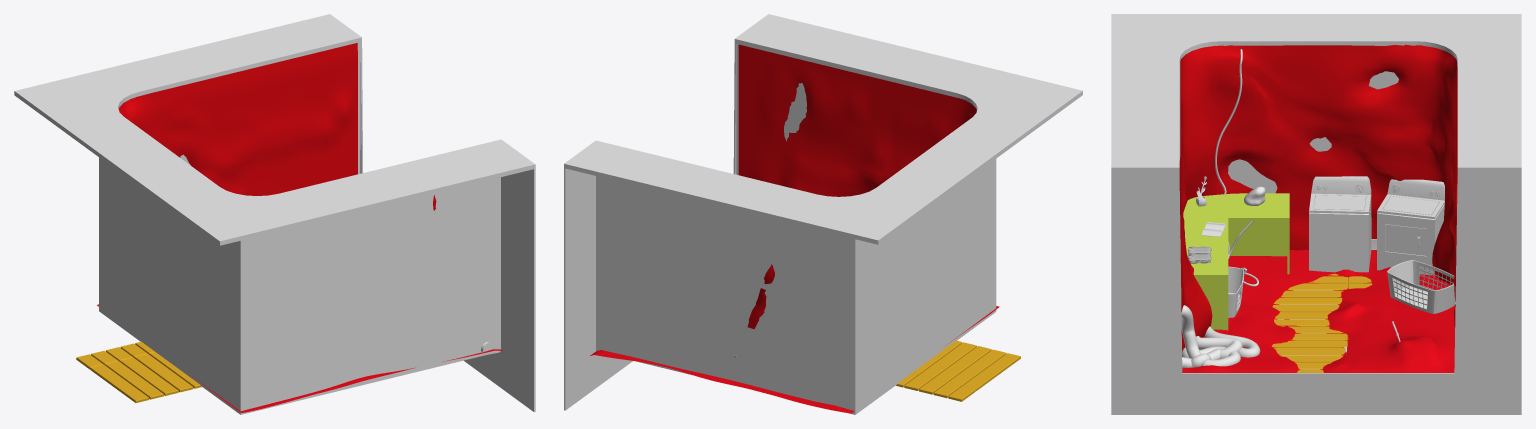
Rendered from TheWashRoom.fbx.
3 renders of one model, left to right at view 1: azimuth 30°, elevation 25°; view 2: azimuth 150°, elevation 25°; view 3: azimuth 270°, elevation 25°, orthographic.
Visible parts, largest first — view 1: Room, Blocker, WallFlesh, FloorBoards, FleshGround; view 2: Room, Blocker, WallFlesh, FloorBoards, FleshGround; view 3: Blocker, WallFlesh, FleshGround, Cupboards, WashingMachine, FloorBoards, Dryer, BezierCurve.001, clothebasket, Room, clothesbasket, BezierCurve.
Part boxes in pixels (left/top/right/bottom): Room: left=99, top=42, right=500, bottom=414; Blocker: left=14, top=14, right=535, bottom=412; WallFlesh: left=118, top=43, right=436, bottom=210; FloorBoards: left=76, top=341, right=201, bottom=402; FleshGround: left=97, top=304, right=502, bottom=412; Room: left=596, top=43, right=996, bottom=414; Blocker: left=564, top=14, right=1082, bottom=410; WallFlesh: left=738, top=44, right=976, bottom=329; FloorBoards: left=896, top=340, right=1020, bottom=401; FleshGround: left=590, top=306, right=999, bottom=413; Blocker: left=1111, top=14, right=1521, bottom=414; WallFlesh: left=1179, top=44, right=1457, bottom=351; FleshGround: left=1182, top=250, right=1455, bottom=372; Cupboards: left=1183, top=193, right=1289, bottom=330; WashingMachine: left=1309, top=176, right=1371, bottom=272; FloorBoards: left=1271, top=273, right=1372, bottom=372; Dryer: left=1377, top=179, right=1444, bottom=275; BezierCurve.001: left=1181, top=305, right=1260, bottom=368; clothebasket: left=1387, top=260, right=1455, bottom=313; Room: left=1179, top=45, right=1457, bottom=373; clothesbasket: left=1228, top=266, right=1244, bottom=317; BezierCurve: left=1215, top=49, right=1258, bottom=286.
Size of the model in its own units: 1663 by 1205 by 1813.
